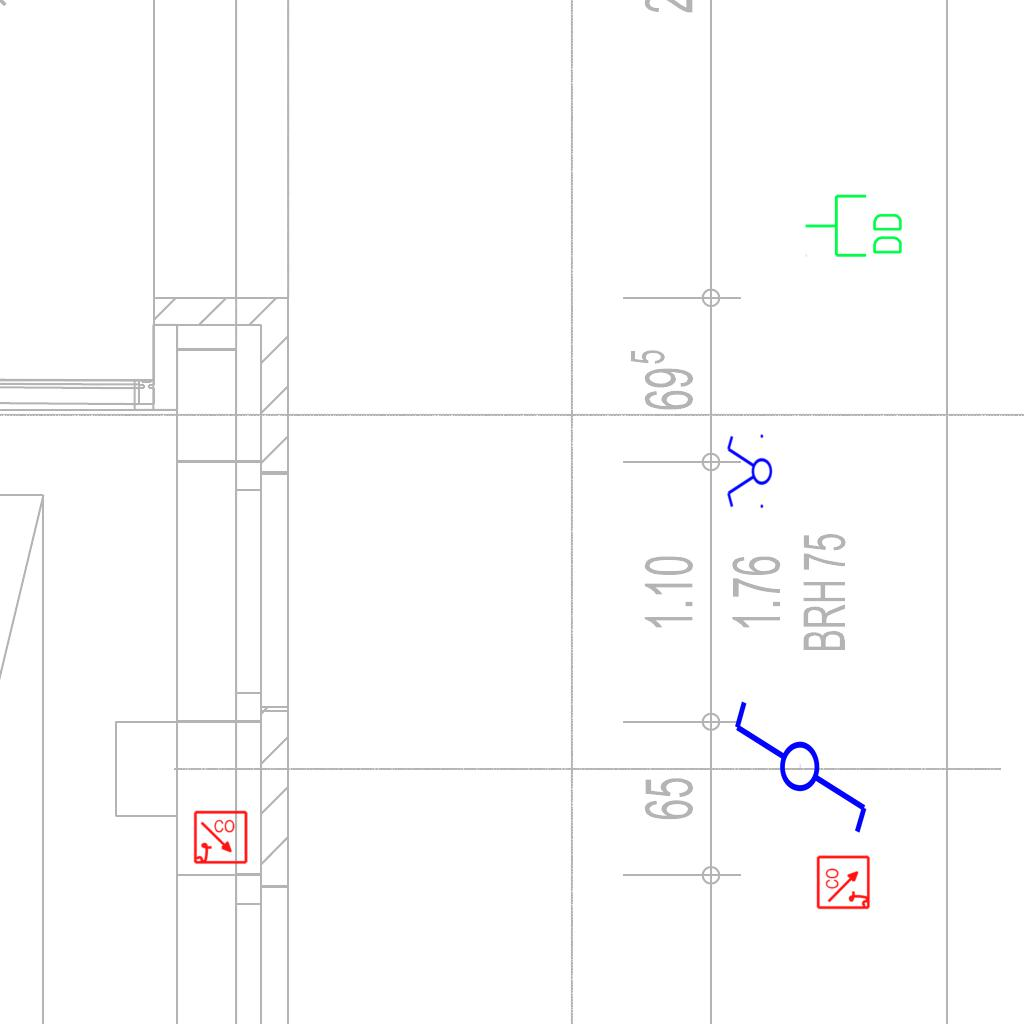Datenanschluss_zweifach: (803, 192, 906, 261)
ROA_Rauchmelder_optisch_mit_Signalgeber_(Sockelsirene): (193, 810, 249, 866), (816, 854, 872, 910)
Serienschalter: (725, 430, 773, 514)
Wechselschalter: (730, 680, 874, 837)
